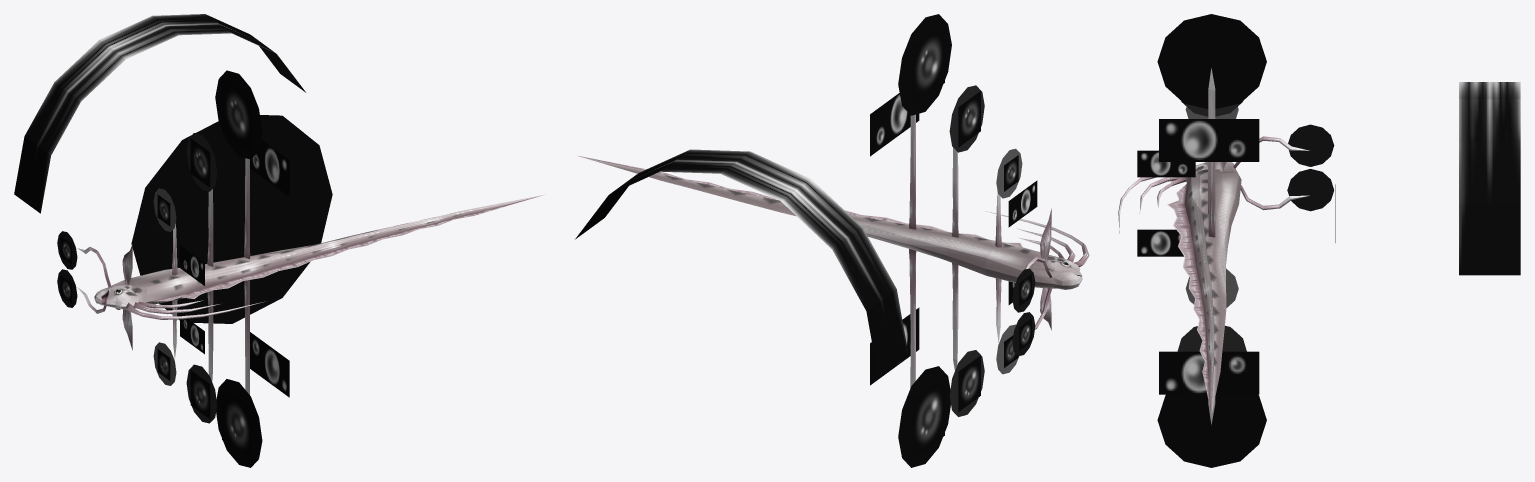
The picture shows the model from 3 angles, left to right: view 1: azimuth 30°, elevation 25°; view 2: azimuth 150°, elevation 25°; view 3: azimuth 270°, elevation 25°; orthographic projection. The views are drawn at different scales.
Parts seen in each view (by area): view 1: M_0158_1, M_0158_0; view 2: M_0158_0, M_0158_1; view 3: M_0158_0, M_0158_1.
Part boxes in pixels (left/top/right/bottom): M_0158_1: left=77, top=115, right=544, bottom=394; M_0158_0: left=14, top=14, right=305, bottom=467; M_0158_0: left=575, top=14, right=1069, bottom=467; M_0158_1: left=577, top=114, right=1089, bottom=387; M_0158_0: left=1137, top=14, right=1520, bottom=467; M_0158_1: left=1118, top=68, right=1335, bottom=424.
Bounding box in the file's own units: 8.71 × 7.29 × 5.86.
2 materials, 2 textured.
